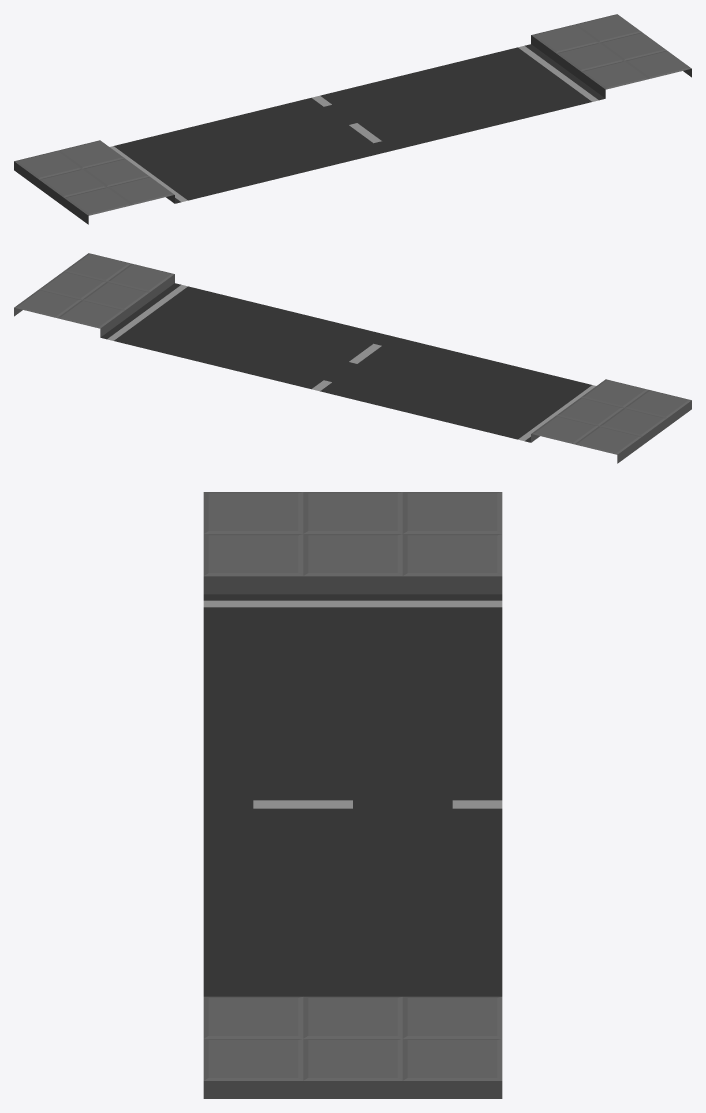
Rendered from Road x3.fbx.
3 views of the same model, one above another, from view 1: azimuth 30°, elevation 25°; view 2: azimuth 150°, elevation 25°; view 3: azimuth 270°, elevation 25° (orthographic). The views are drawn at different scales.
Visible parts, largest first — view 1: Cube; view 2: Cube; view 3: Cube.
Part boxes in pixels (box(x1,y1,x2,y2)): Cube: box(14, 14, 691, 224); Cube: box(14, 253, 691, 463); Cube: box(203, 492, 502, 1098).
Size of the model in its own units: 1400 by 21 by 300.
